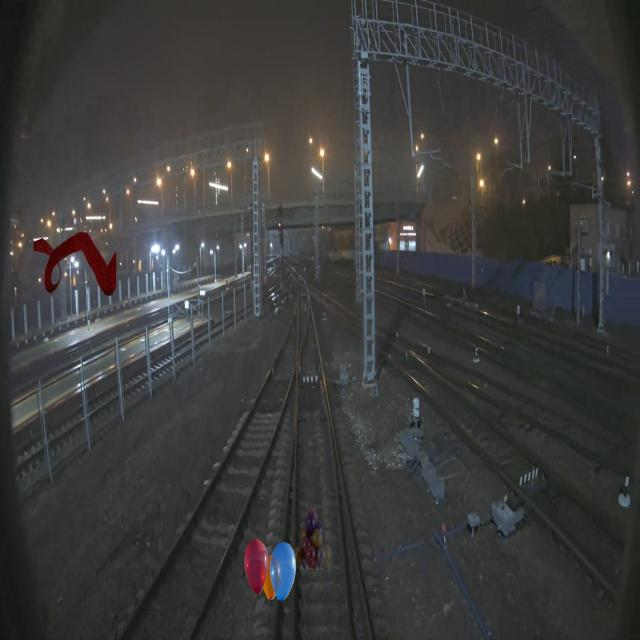balloon: (244, 538, 296, 602), (292, 506, 332, 570)
floating object: (34, 232, 117, 296)
